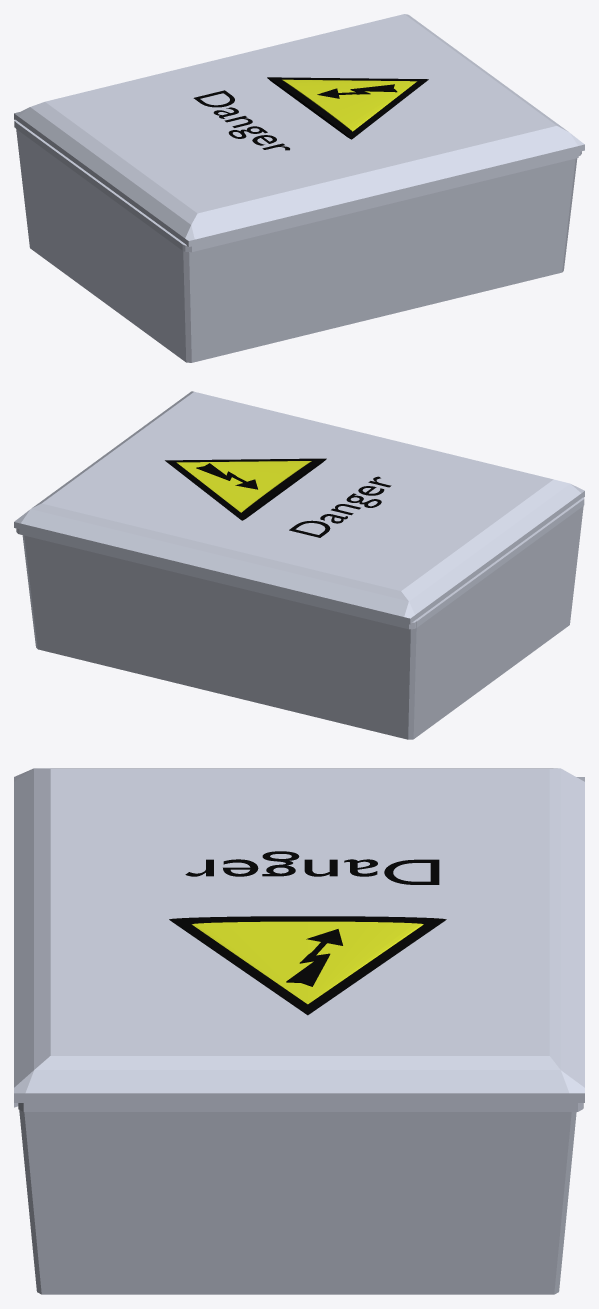
File: Electricity box model.fbx
3 views of the same model, one above another, from view 1: azimuth 30°, elevation 25°; view 2: azimuth 150°, elevation 25°; view 3: azimuth 270°, elevation 25° (orthographic). The views are drawn at different scales.
Visible parts, largest first — view 1: Cube.001, Cube, Cone, Cone.001, Danger; view 2: Cube.001, Cube, Cone, Cone.001, Danger; view 3: Cube.001, Cube, Cone, Cone.001, Danger, Cube.002.
Part boxes in pixels (left/top/right/bottom): Cube.001: left=14, top=14, right=584, bottom=246; Cube: left=14, top=119, right=581, bottom=362; Cone: left=282, top=79, right=416, bottom=131; Cone.001: left=267, top=77, right=428, bottom=139; Danger: left=193, top=90, right=289, bottom=150; Cube.001: left=14, top=391, right=584, bottom=624; Cube: left=16, top=497, right=584, bottom=739; Cone: left=176, top=461, right=311, bottom=512; Cone.001: left=165, top=458, right=326, bottom=520; Danger: left=289, top=476, right=391, bottom=537; Cube.001: left=14, top=768, right=584, bottom=1102; Cube: left=14, top=1103, right=583, bottom=1294; Cone: left=192, top=921, right=423, bottom=1004; Cone.001: left=169, top=916, right=446, bottom=1015; Danger: left=185, top=851, right=439, bottom=884; Cube.002: left=286, top=941, right=330, bottom=986.
Size of the model in its own units: 196 by 69.4 by 149.
